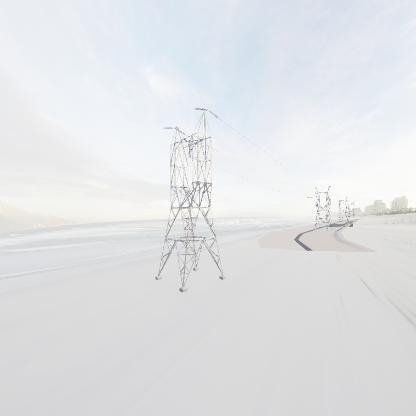tower: (151, 108, 229, 297), (311, 183, 334, 231)
